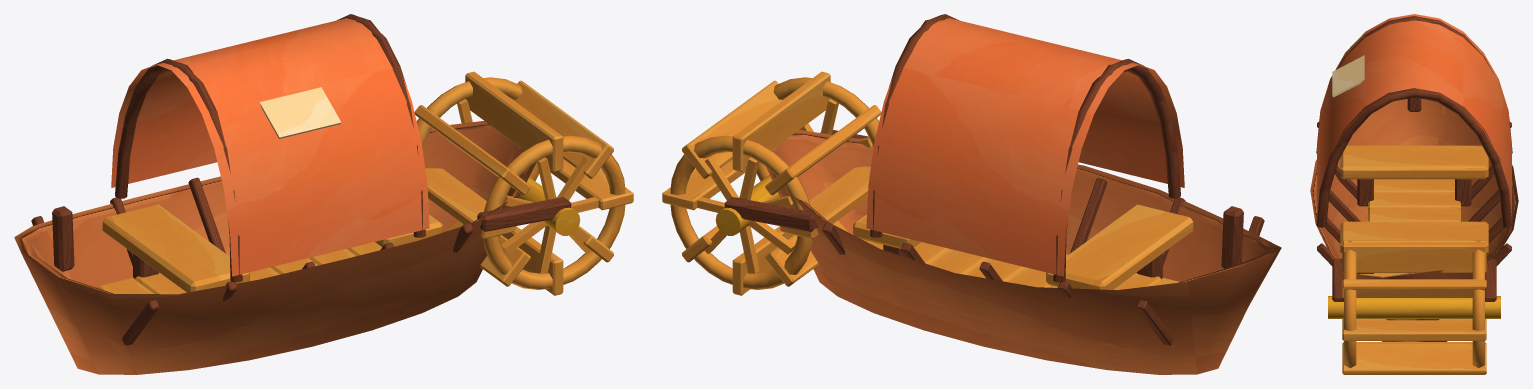
Rendered from revised-06-03.glb.
3 views of the same model, side by side, from view 1: azimuth 30°, elevation 25°; view 2: azimuth 150°, elevation 25°; view 3: azimuth 270°, elevation 25° (orthographic). The views are drawn at different scales.
Parts seen in each view (by area): view 1: folded_ferry; view 2: folded_ferry; view 3: folded_ferry.
Part boxes in pixels (<box>): folded_ferry: <box>14,14,633,374</box>; folded_ferry: <box>662,14,1281,374</box>; folded_ferry: <box>1310,14,1518,374</box>.
Size of the model in its own units: 2.39 by 1.12 by 0.94.
Materials: 2 (2 with a texture image).
